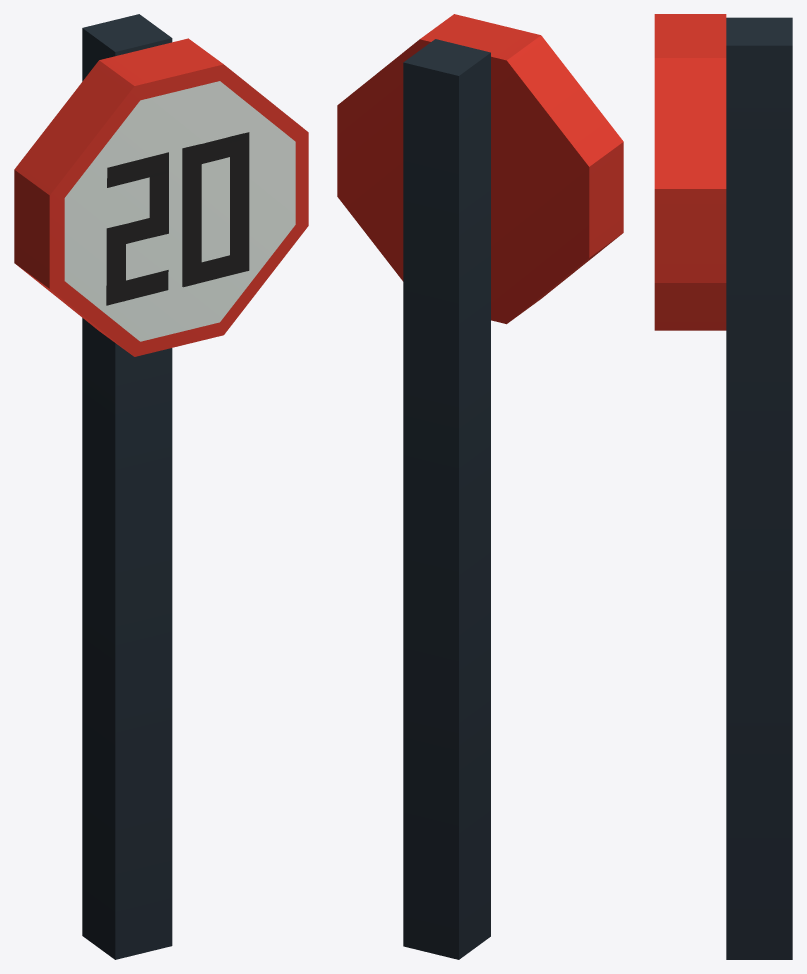
File: Road_sign_max_Speed_20.fbx
3 renders of one model, left to right at view 1: azimuth 30°, elevation 25°; view 2: azimuth 150°, elevation 25°; view 3: azimuth 270°, elevation 25°, orthographic. The views are drawn at different scales.
Visible parts, largest first — view 1: Road_sign_max_Speed_20; view 2: Road_sign_max_Speed_20; view 3: Road_sign_max_Speed_20.
Part boxes in pixels (left/top/right/bottom): Road_sign_max_Speed_20: left=14, top=14, right=308, bottom=959; Road_sign_max_Speed_20: left=337, top=14, right=623, bottom=959; Road_sign_max_Speed_20: left=654, top=14, right=792, bottom=959.
Size of the model in its own units: 107 by 359 by 49.94.
